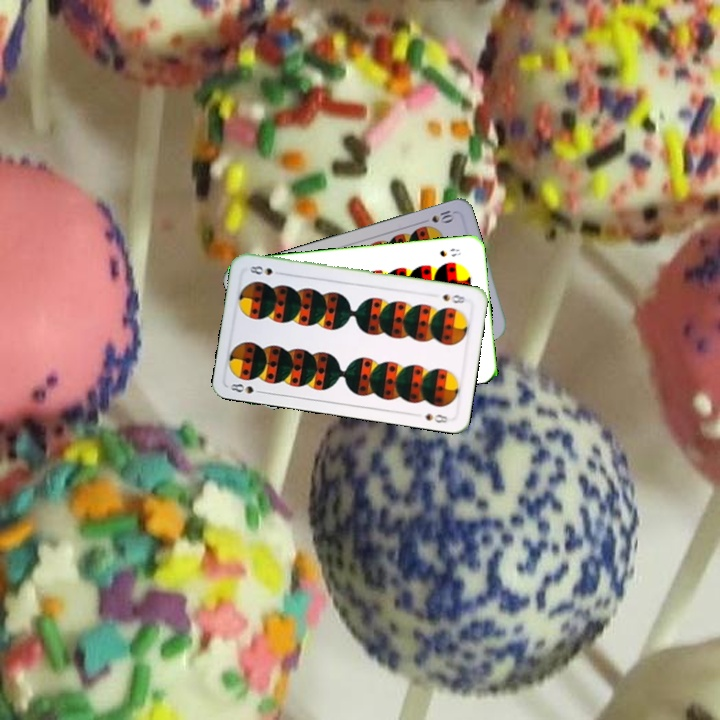S10: (418, 206, 457, 226)
S8: (226, 379, 267, 396), (439, 290, 472, 306), (436, 244, 463, 259)
